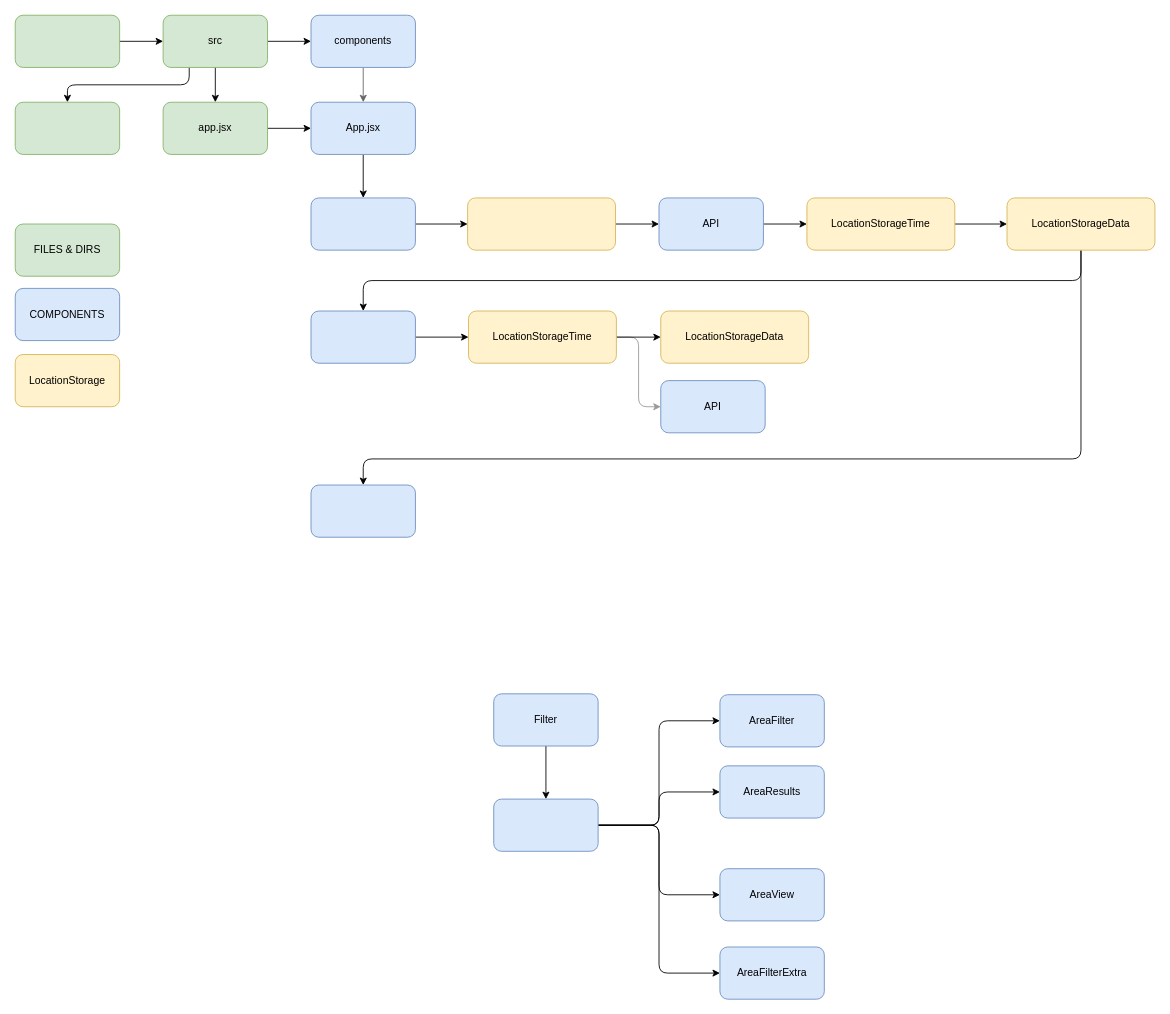
This 1170x1014 diagram has some shape labels left out. The box of each missing label's shape, as (x1, y1, x2, y2) in pixels:
AreaLayout: (493, 798, 598, 851)
Forecast: (310, 310, 415, 363)
Home: (310, 197, 415, 250)
index.html: (14, 14, 120, 67)
LocationStoragePosition: (467, 197, 616, 250)
owm.json: (14, 101, 120, 154)
Rain: (310, 484, 415, 537)
